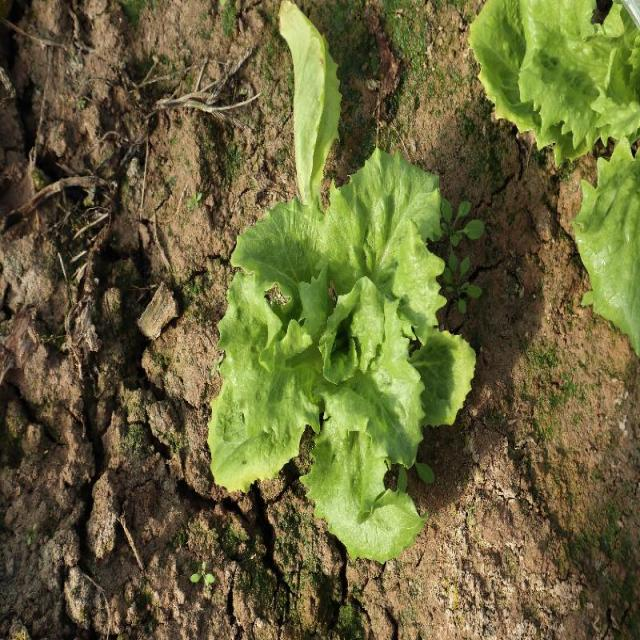crop: (210, 161, 473, 564)
